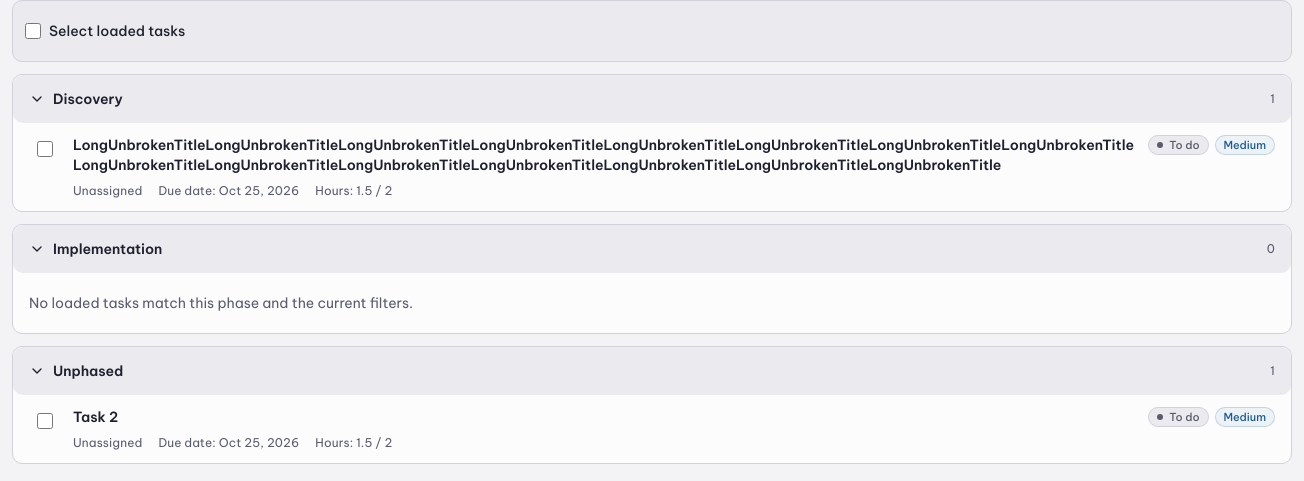
Test: GroupedTaskList › collapses only its phase, preserves readable titles and opens task detail
Click the 2nd button. click: (605, 155)
box: left=73, top=135, right=1136, bottom=175
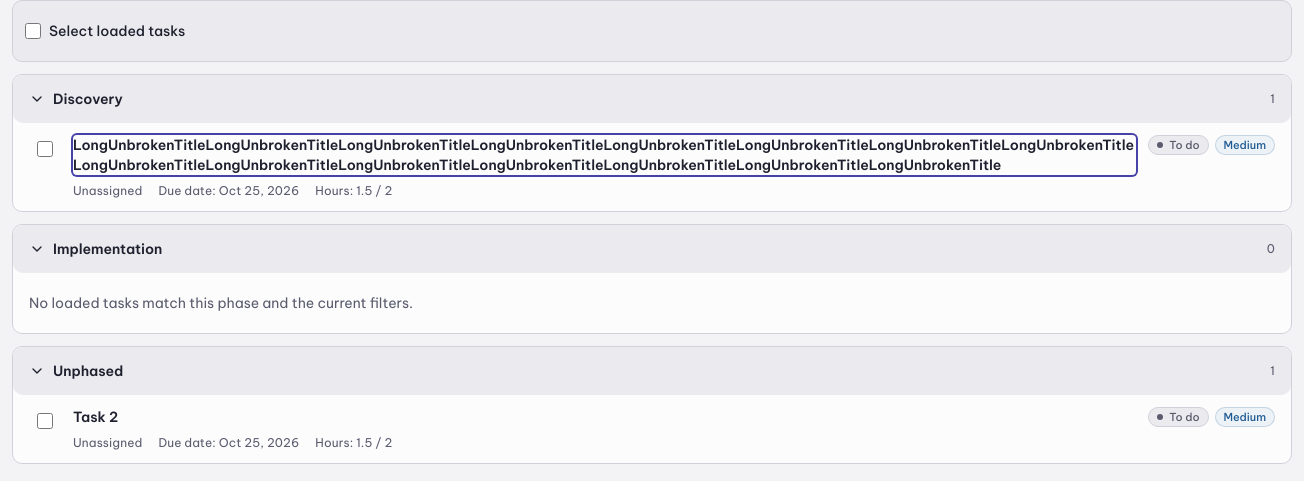
Click the button "Discovery 1". click: (88, 99)
box: left=13, top=75, right=1291, bottom=123
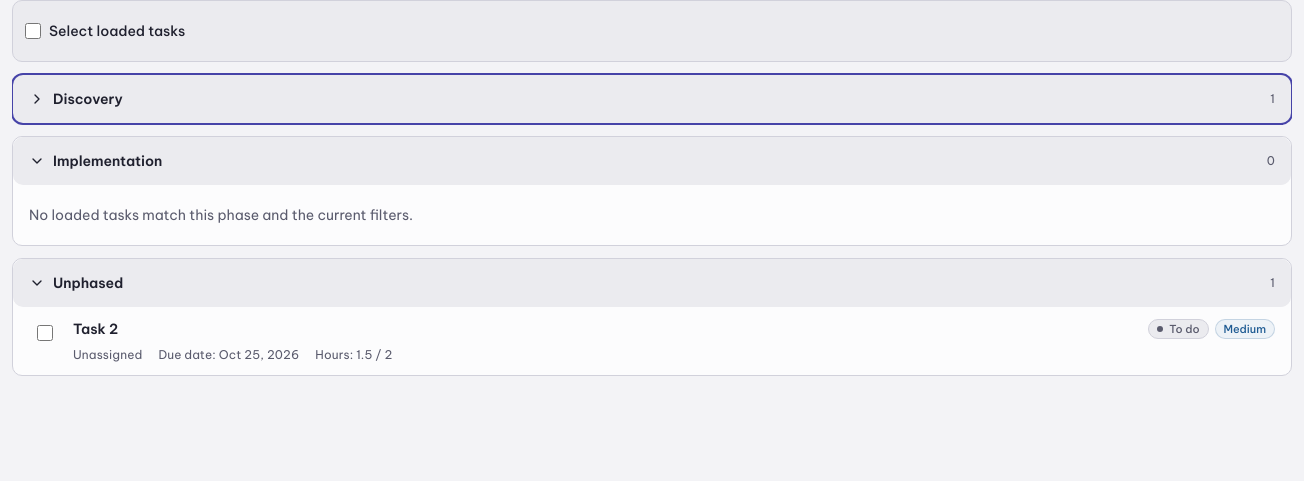
Expected: the button "Task 2" is shown, left=73, top=319, right=118, bottom=339
Expected: the button "Discovery 1" is collapsed
Click the button "Discovery 1". click: (88, 99)
box: left=13, top=75, right=1291, bottom=123
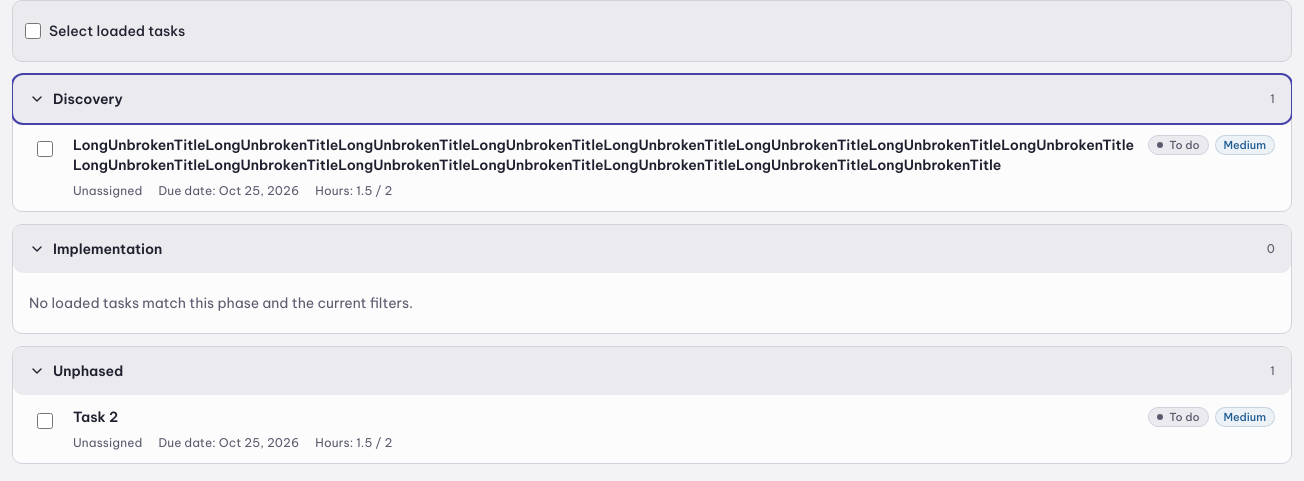
Expected: the text "No loaded tasks match this phase and the current filters." is shown, left=29, top=294, right=413, bottom=312
Expected: the 1st text "1.5 / 2" is shown, left=356, top=183, right=392, bottom=198
